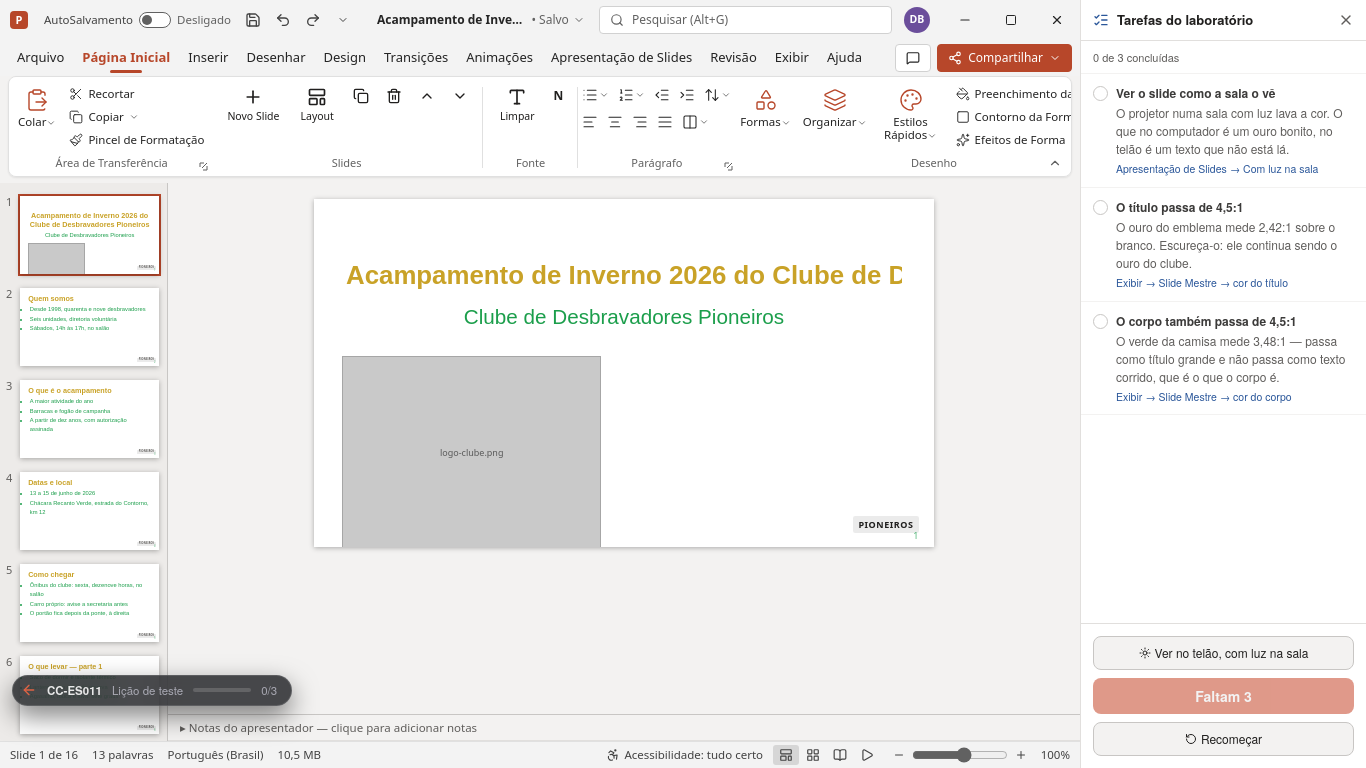
Scenario: o módulo 4: contraste › o verificador de acessibilidade relata a medida
Click the tab "Revisão": (734, 58) [701, 40, 766, 76]
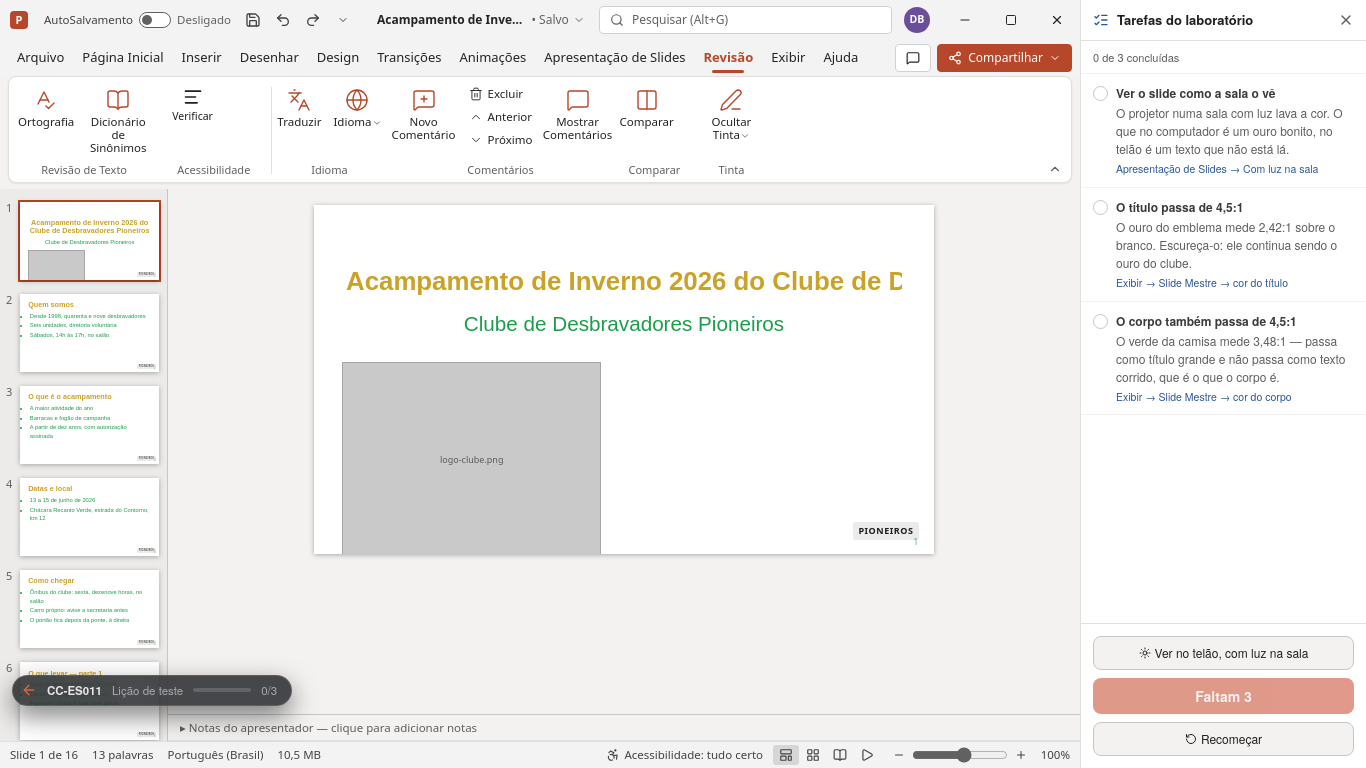
Click the button "Verificar": (193, 106) [163, 83, 222, 129]
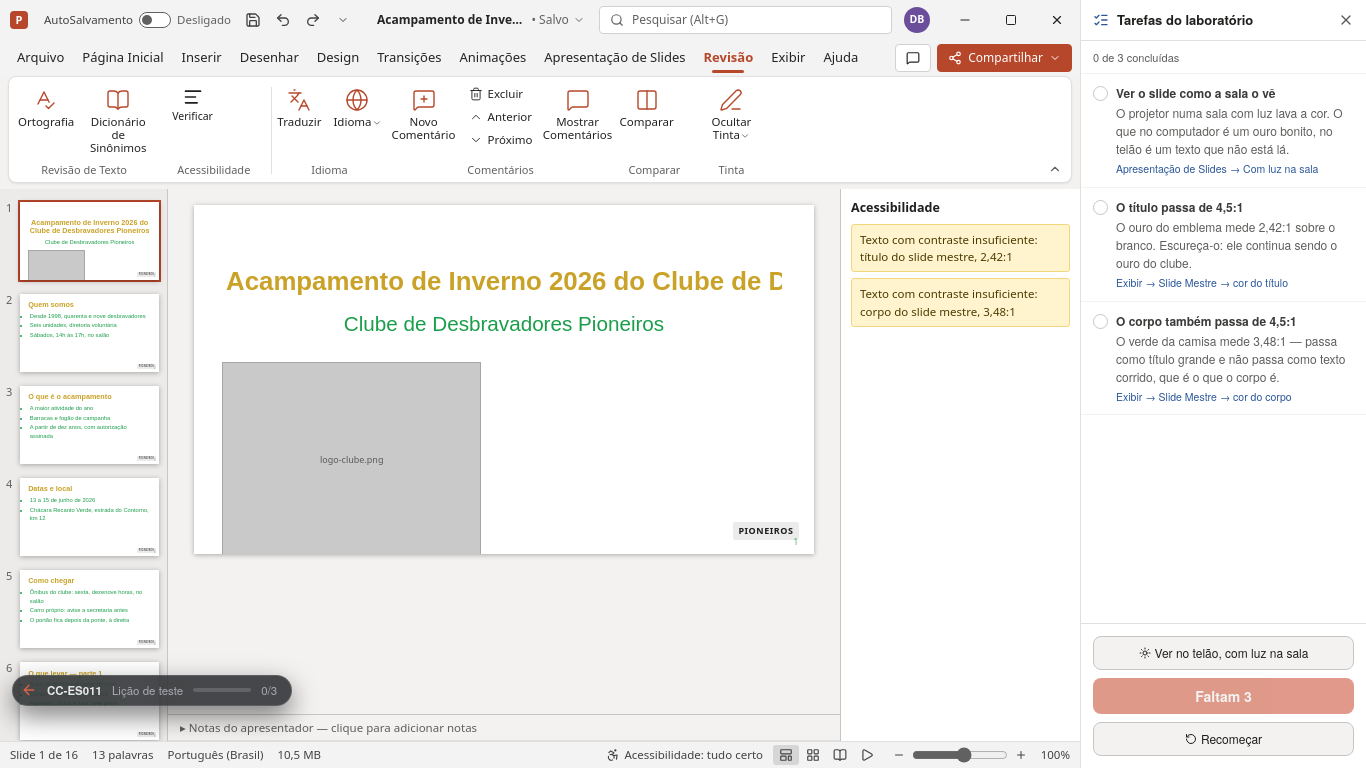
expect the element named "Acessibilidade" shows "contraste insuficiente": met, box [860, 232, 1038, 264]
